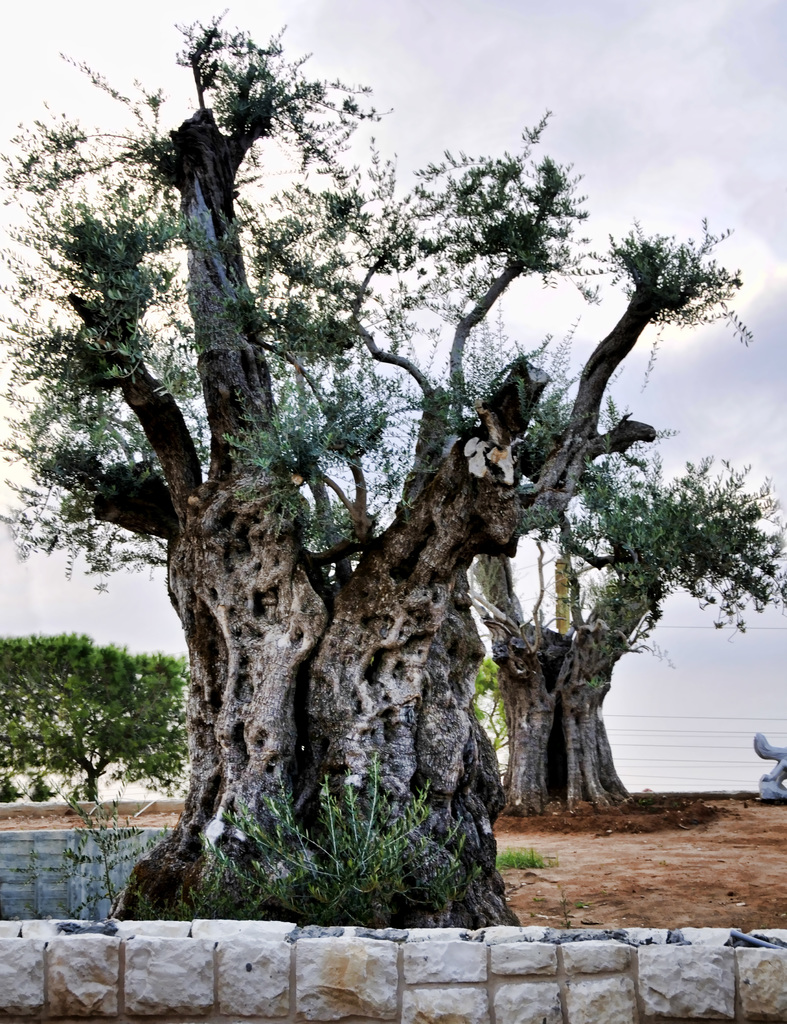Tree: (0, 7, 786, 930)
